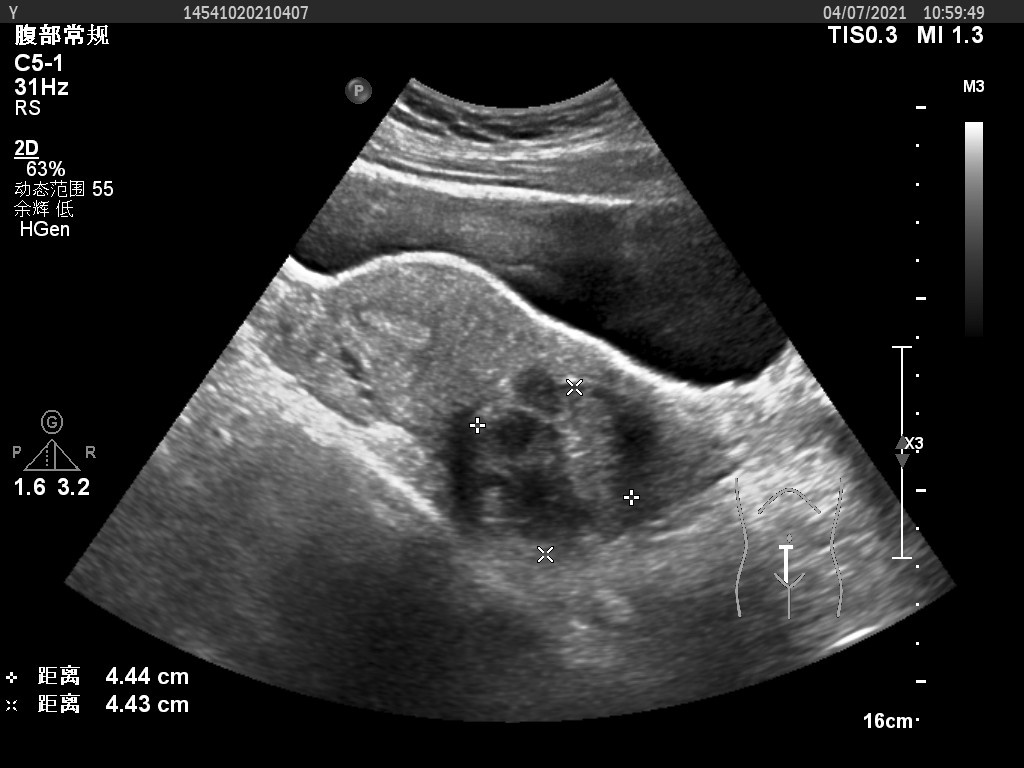肌瘤: (473, 387, 638, 555)
